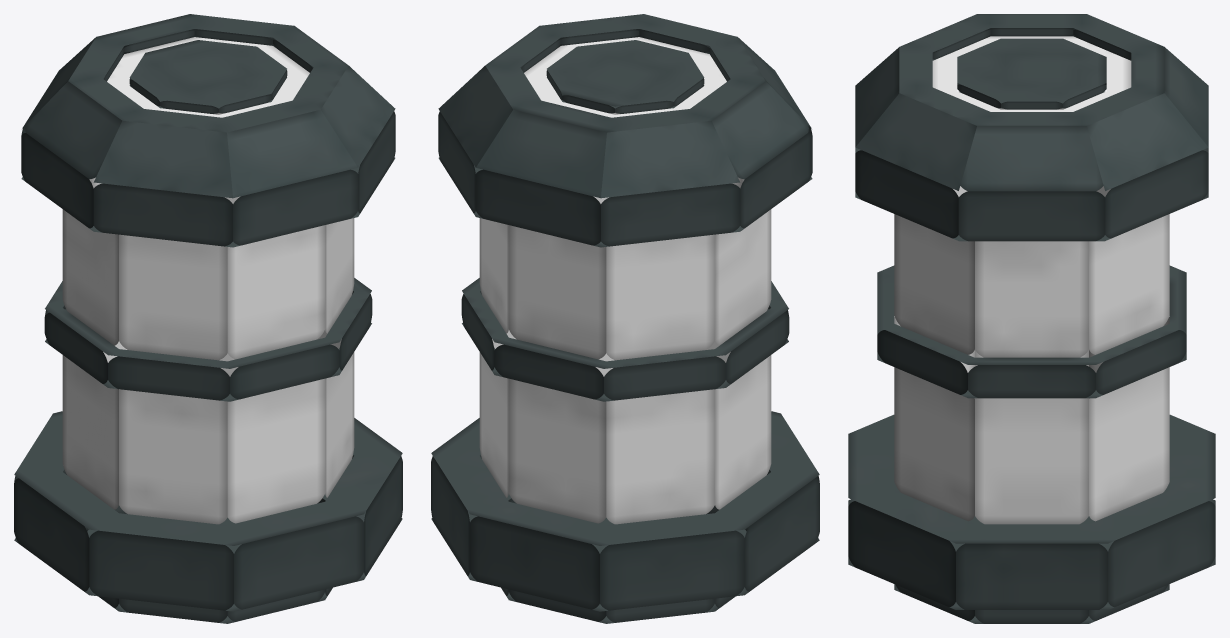
File: WeakPoint.fbx
The picture shows the model from 3 angles, left to right: view 1: azimuth 30°, elevation 25°; view 2: azimuth 150°, elevation 25°; view 3: azimuth 270°, elevation 25°; orthographic projection.
Visible parts, largest first — view 1: WeakPoint; view 2: WeakPoint; view 3: WeakPoint.
Boxes of the visible parts, box(x1,y1,x2,y2) form: WeakPoint: box(14, 14, 402, 623); WeakPoint: box(431, 14, 819, 623); WeakPoint: box(848, 14, 1215, 623).
Bounding box in the file's own units: 62.5 × 93.12 × 62.5.
Materials: 2 (2 with a texture image).
